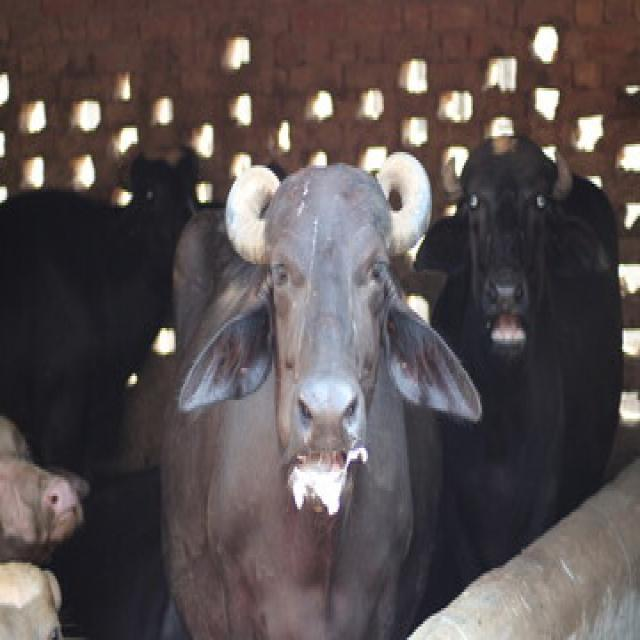Buffalo: (167, 139, 485, 640)
